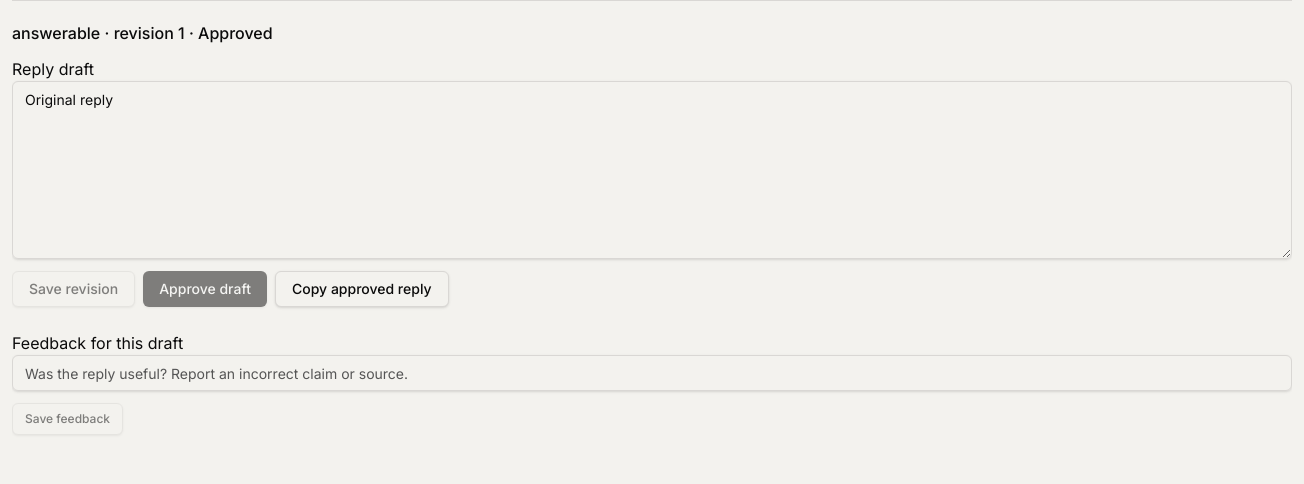
Test case: support draft review › requires saving edits before approval or copying
Expected: the button "Copy approved reply" is enabled, x1=275 y1=271 x2=449 y2=307
Replace the text in the text box labelled "Reply draft" with "Changed claim" at [652, 170], box x1=12 y1=81 x2=1292 y2=259
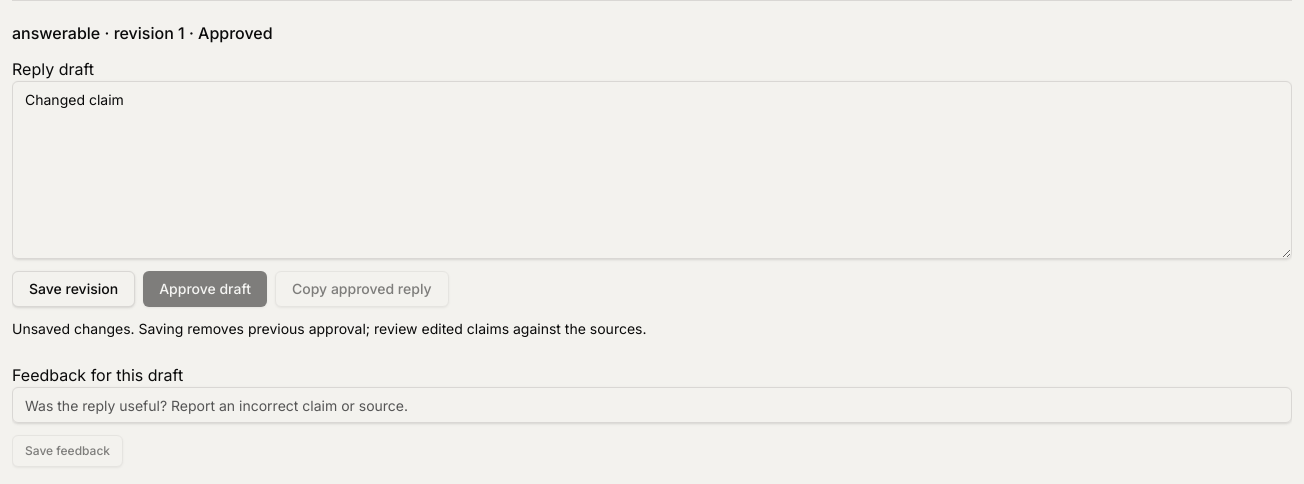
Expected: the button "Approve draft" is disabled, x1=143 y1=271 x2=267 y2=307
Expected: the button "Copy approved reply" is disabled, x1=275 y1=271 x2=449 y2=307
